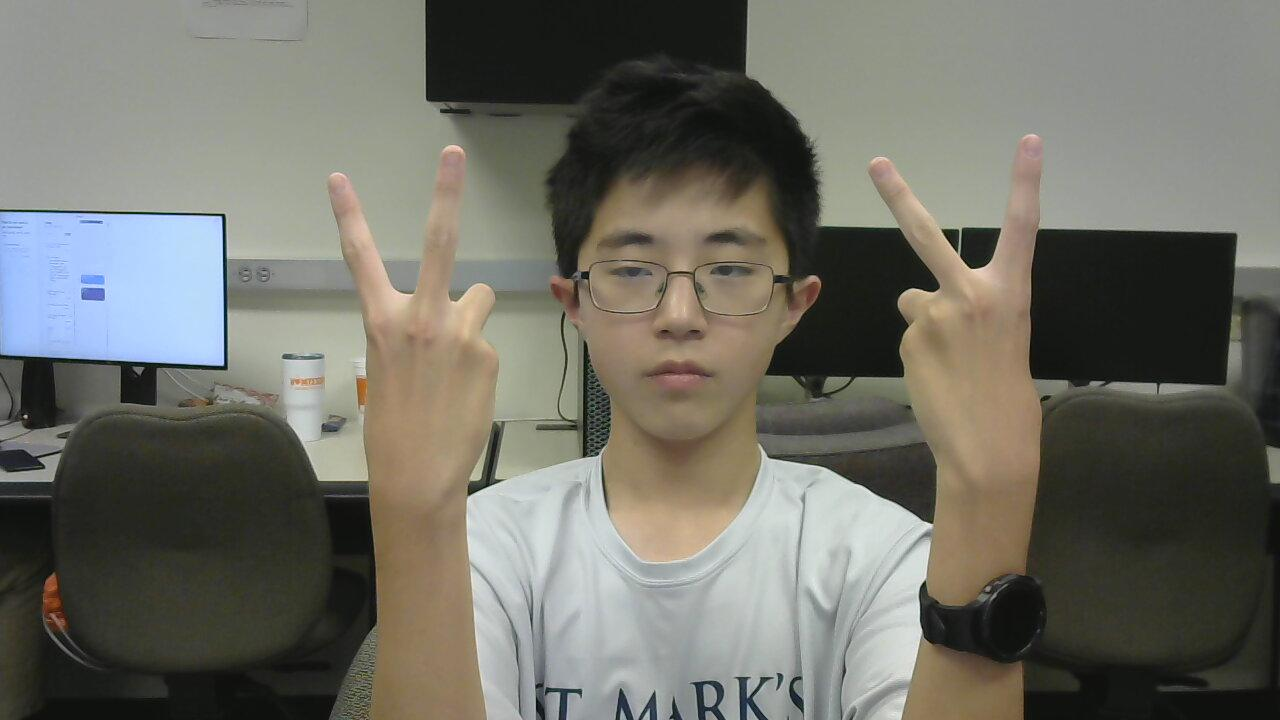peace: (861, 124, 1092, 524), (286, 154, 514, 531)
